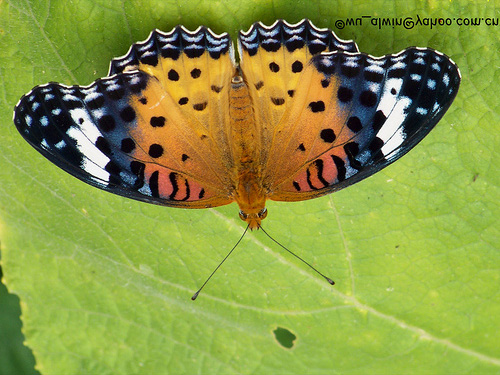Argyreus hyperbius: (3, 14, 464, 301)
butterfly: (5, 16, 466, 303)
